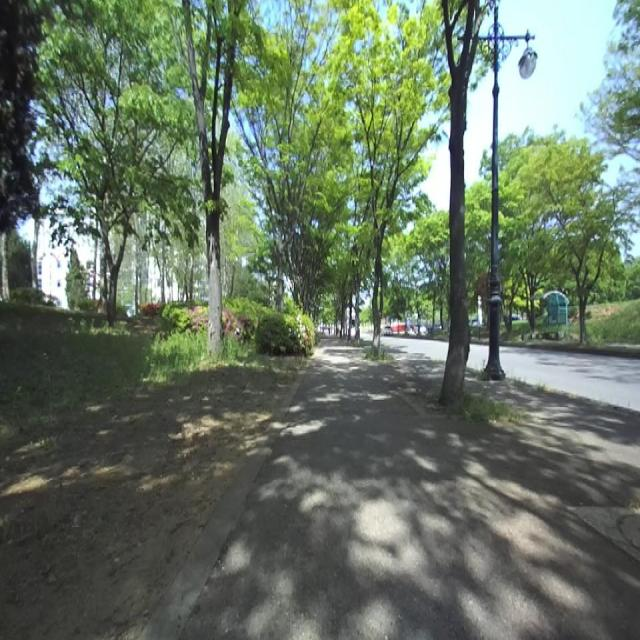sidewalk: (184, 336, 640, 639)
